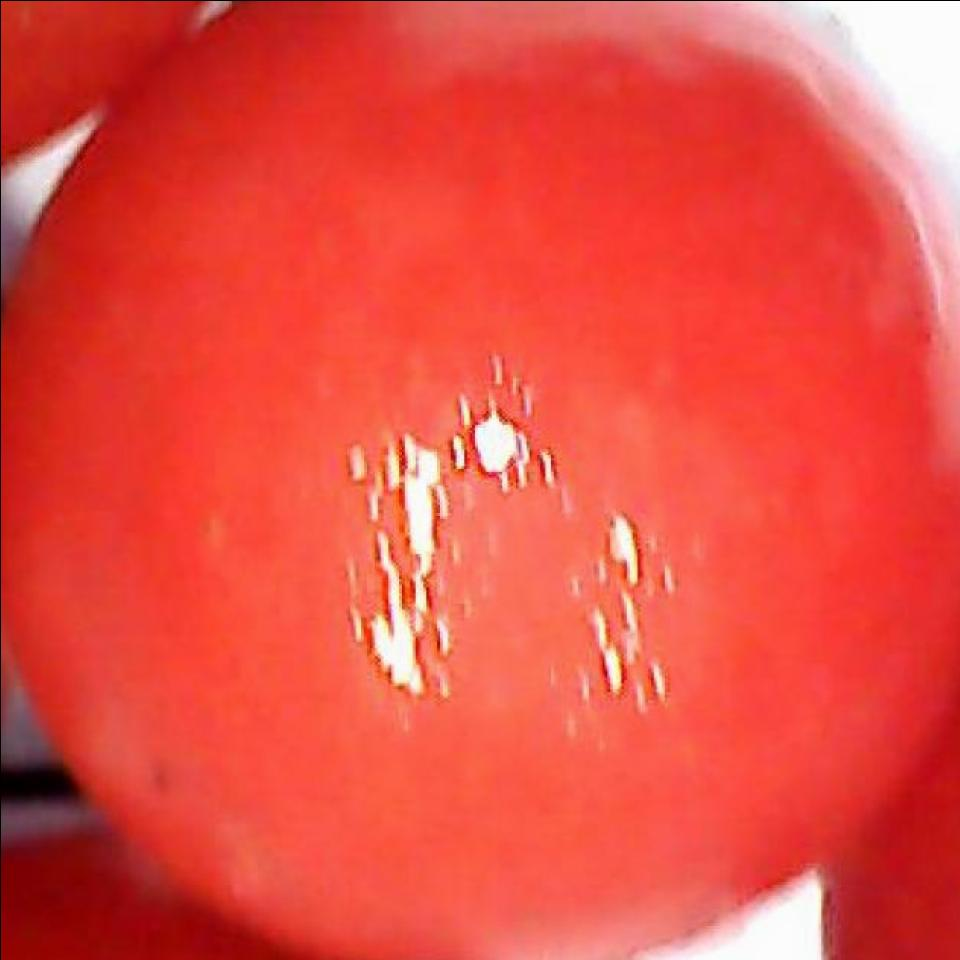Healthy: (11, 0, 956, 951)
